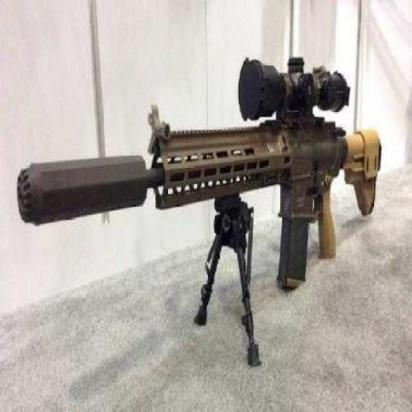Gun: (17, 56, 383, 292)
